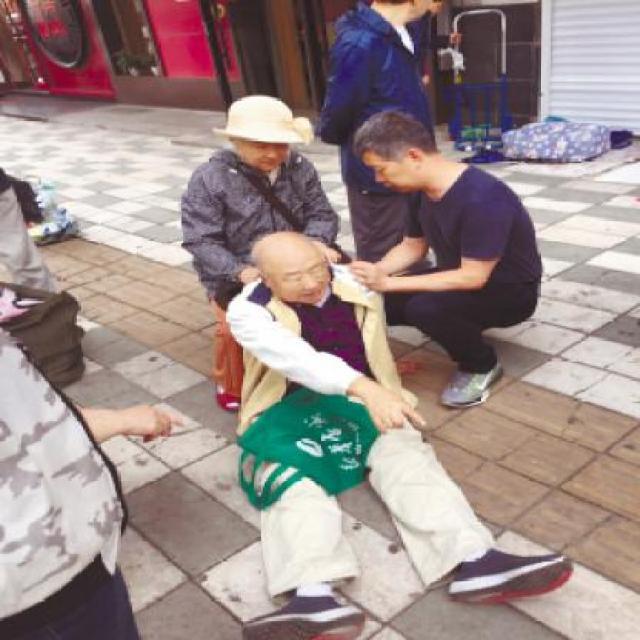fall: (200, 204, 578, 638)
